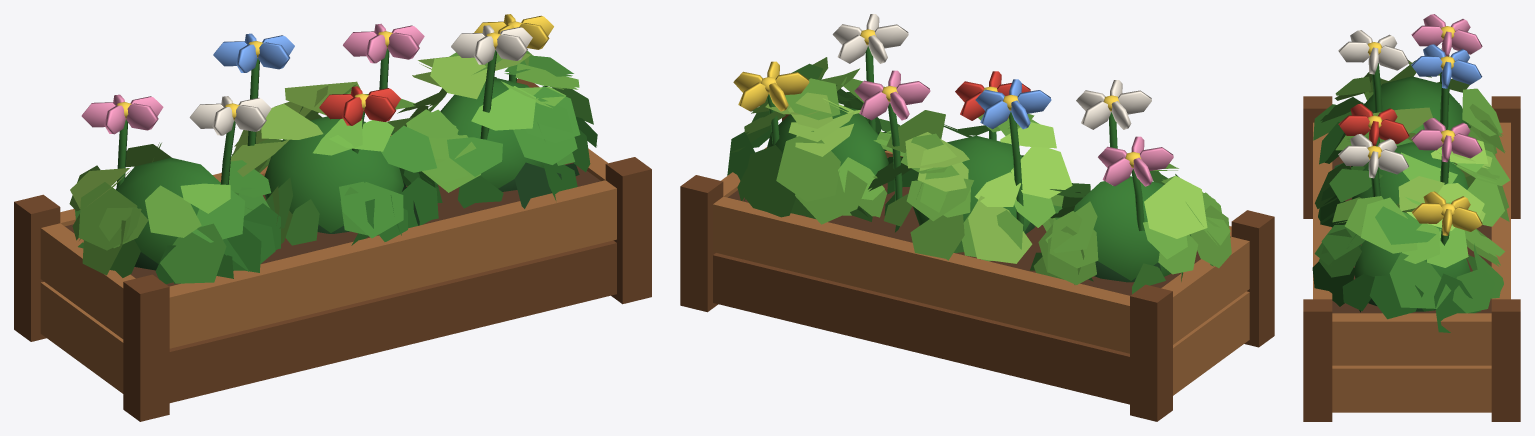
File: PlanterBox.glb
The picture shows the model from 3 angles, left to right: view 1: azimuth 30°, elevation 25°; view 2: azimuth 150°, elevation 25°; view 3: azimuth 270°, elevation 25°; orthographic projection. The views are drawn at different scales.
Visible parts, largest first — view 1: Body, Sway; view 2: Body, Sway; view 3: Body, Sway.
Boxes of the visible parts, x1,y1,x2,y2 form: Body: (14, 51, 651, 421); Sway: (81, 14, 553, 189); Body: (680, 57, 1274, 421); Sway: (733, 14, 1173, 231); Body: (1303, 60, 1520, 421); Sway: (1338, 14, 1482, 245).
Size of the model in its own units: 3.15 by 1.61 by 1.34.
Materials: 2 (2 with a texture image).
